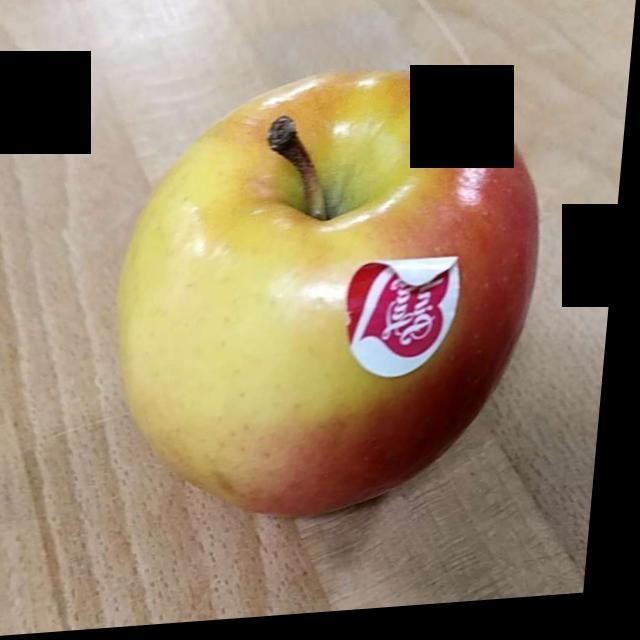apple: (129, 85, 540, 517)
